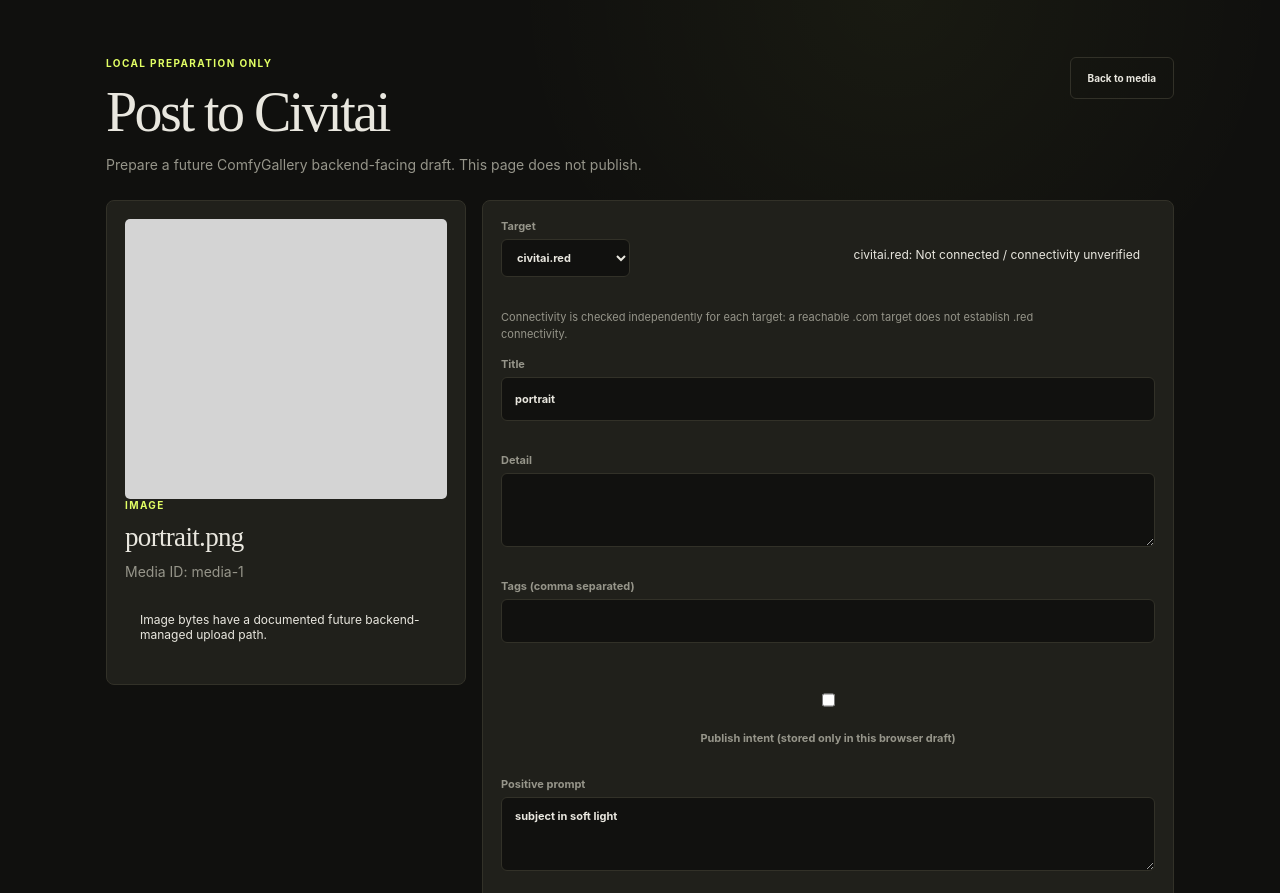
Test: CivitaiPostPage › uses only the two local record paths and prepares editable evidence
This screenshot has width=1280, height=893.
expect the text box showing "subject in soft light" is shown: met, box [501, 798, 1155, 872]
expect the dropdown labelled "Target" shows "civitai.red": met, box [501, 239, 630, 277]
Replace the text in the field labelled "Title" with "Corrected title". click: coordinates (828, 400)
box: [501, 378, 1155, 422]
(page scrolled)
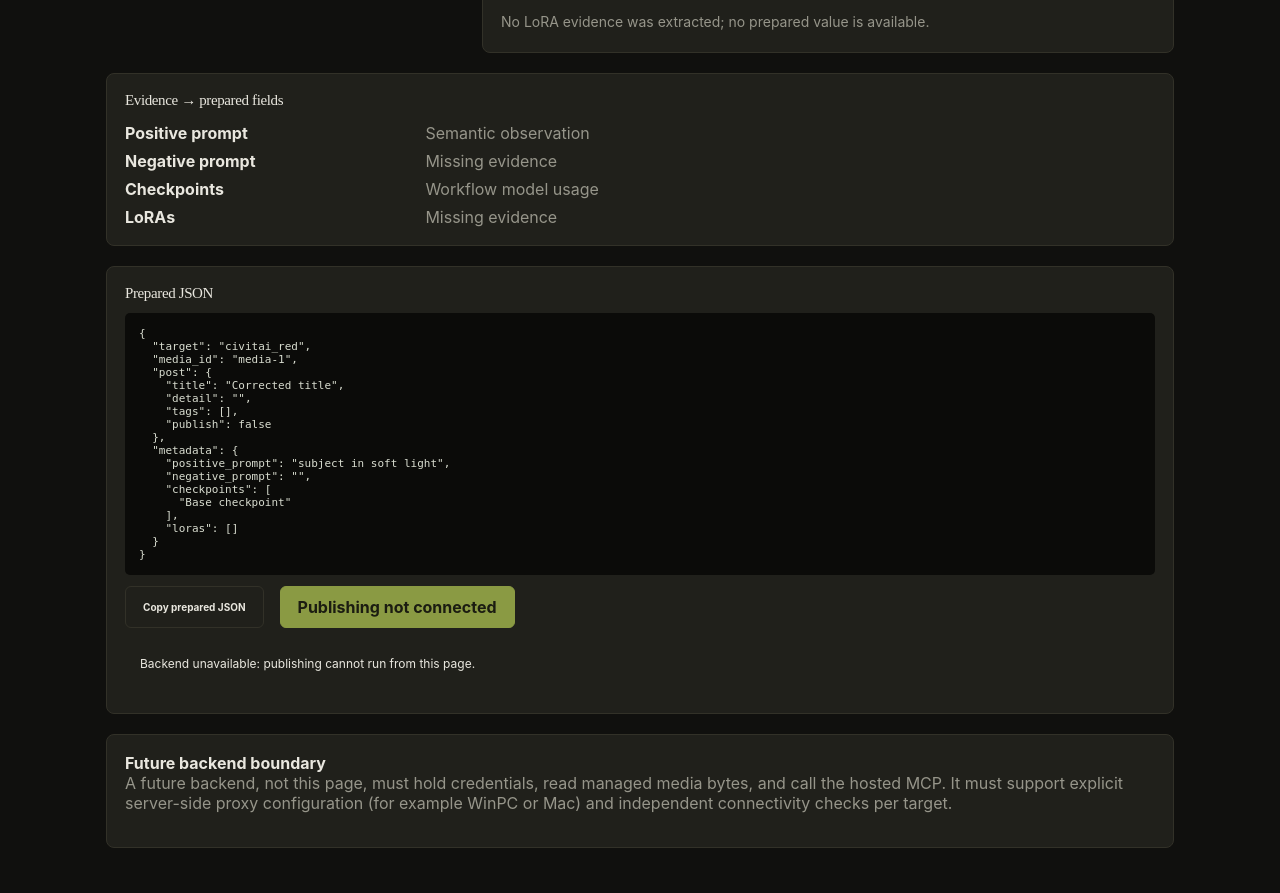
expect the text "\"title\": \"Corrected title\"" is shown: met, box [139, 327, 450, 561]
